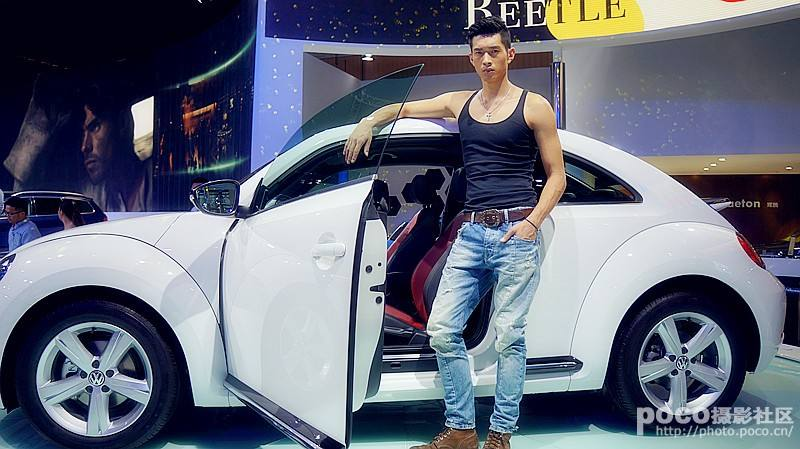person: (311, 27, 563, 437)
